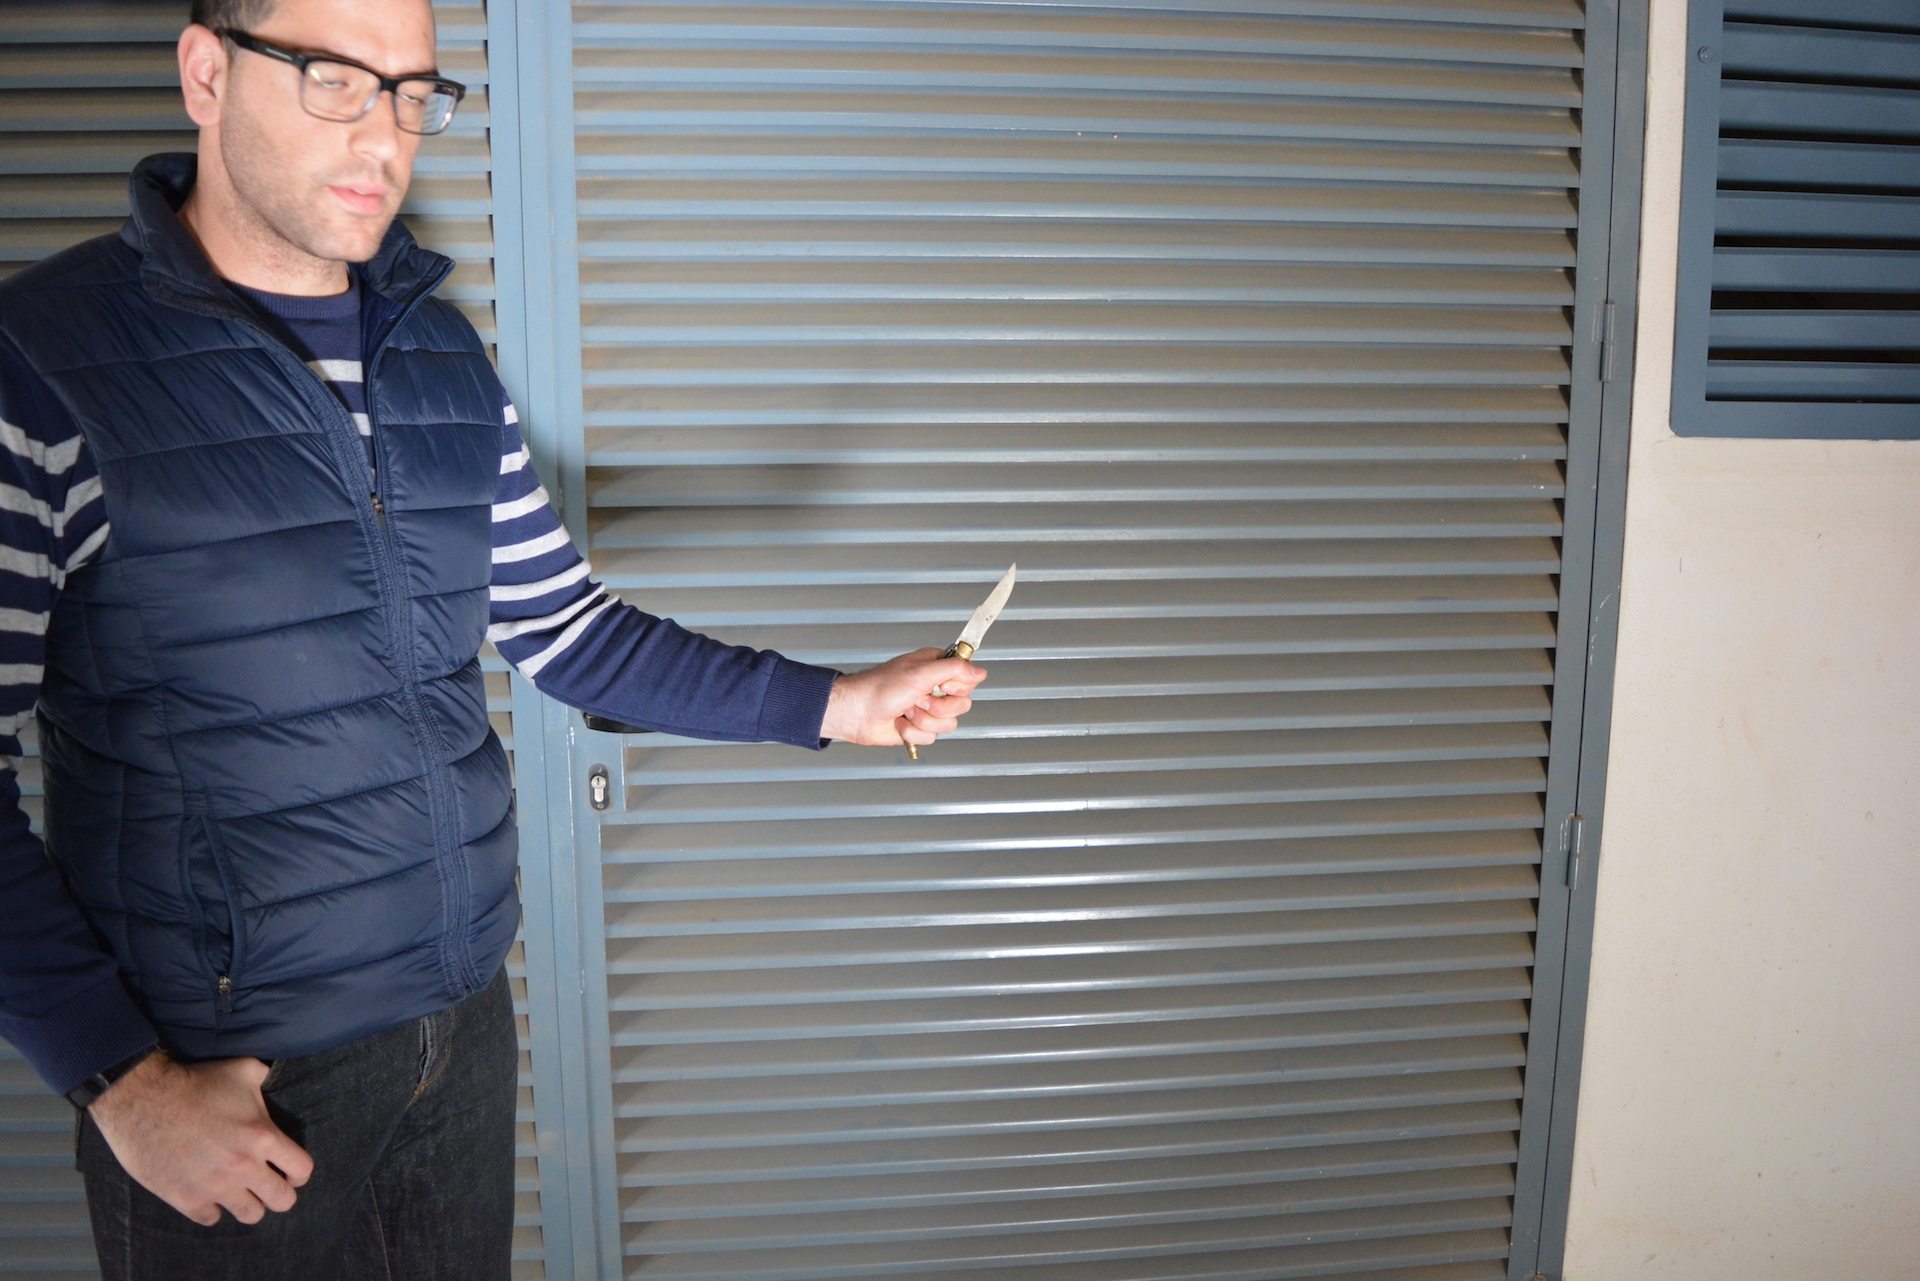knife: (896, 550, 1024, 768)
